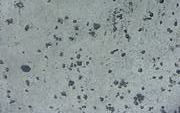Spalling: (1, 1, 180, 113)
